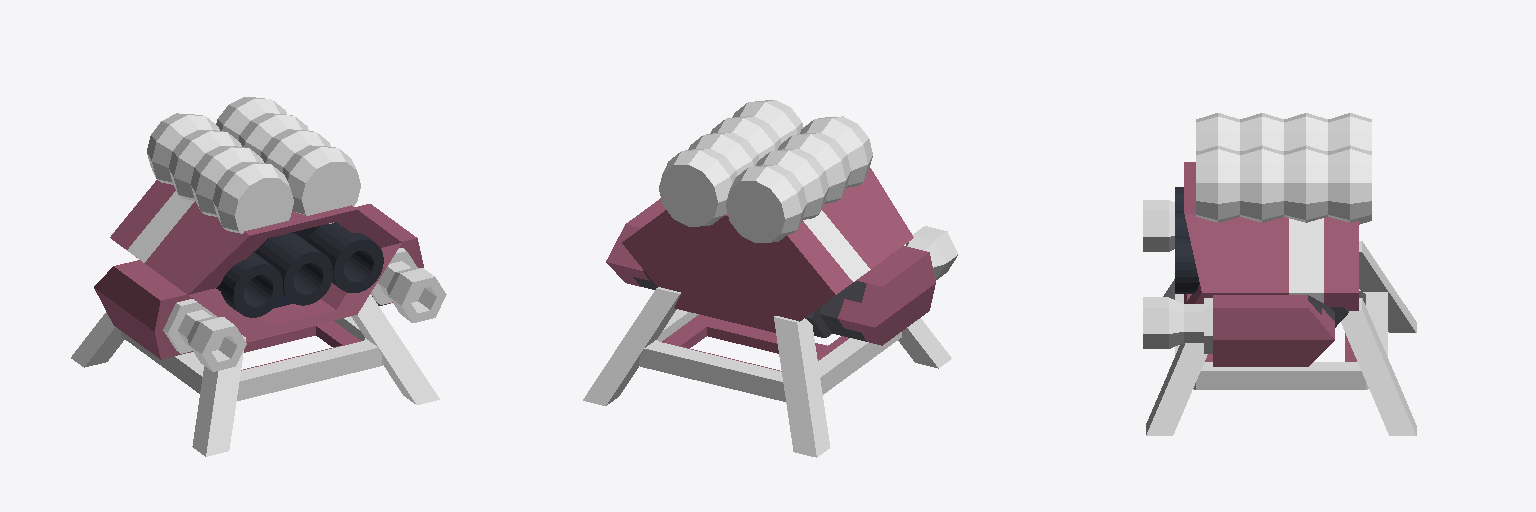
The model's file is walking_02_01.obj.
The picture shows the model from 3 angles: view 1: azimuth 30°, elevation 25°; view 2: azimuth 150°, elevation 25°; view 3: azimuth 270°, elevation 25°; orthographic projection.
Parts seen in each view (by area): view 1: mergedBlocks; view 2: mergedBlocks; view 3: mergedBlocks.
Part boxes in pixels (x1,y1,x2,y2): mergedBlocks: (71, 97, 446, 456); mergedBlocks: (583, 100, 958, 457); mergedBlocks: (1143, 113, 1416, 435).
Bounding box in the file's own units: 1.61 × 1.41 × 1.41.